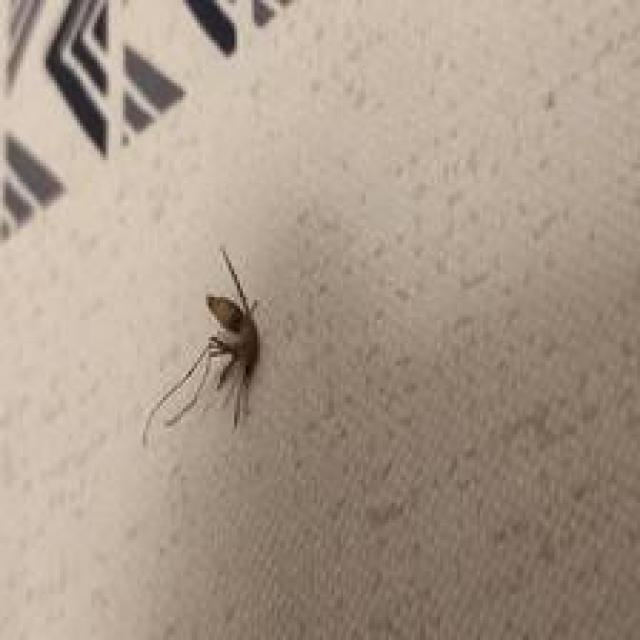Culex: (142, 244, 264, 447)
